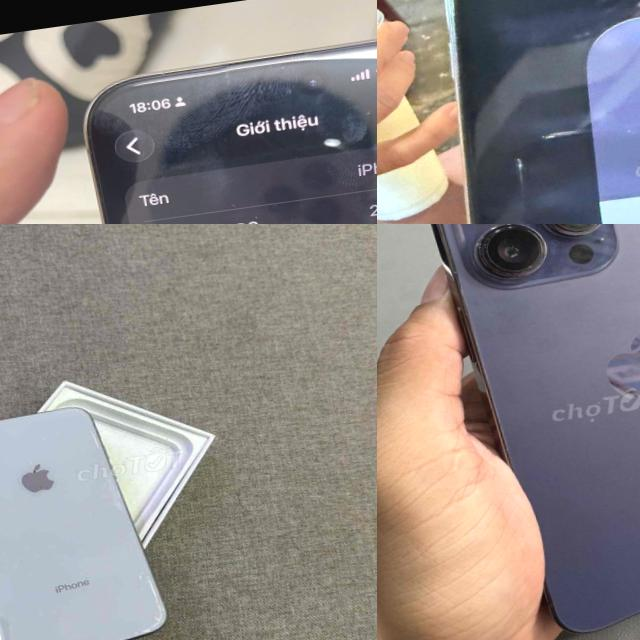gen_11: (410, 0, 640, 224)
gen_14: (404, 224, 640, 640)
gen_15: (49, 14, 377, 224)
gen_x_xs: (0, 382, 180, 640)
